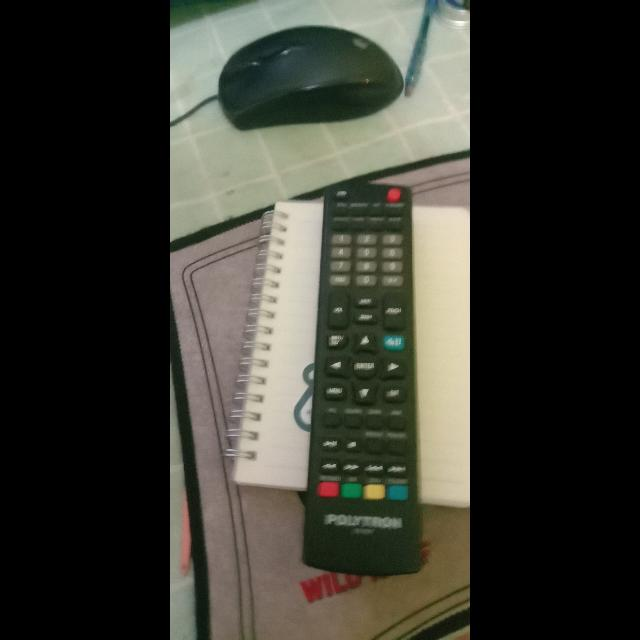TV-Remote-Control: (299, 178, 427, 572)
